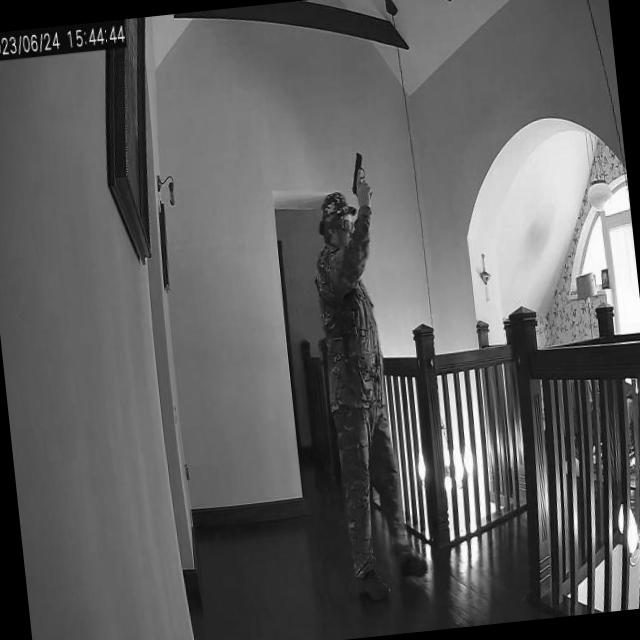gun: (348, 148, 374, 198)
person with a gun: (304, 182, 428, 602)
